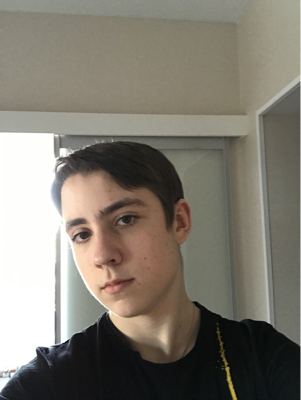without_mask: (62, 194, 160, 320)
